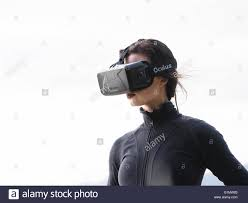oculus: (96, 59, 162, 99)
